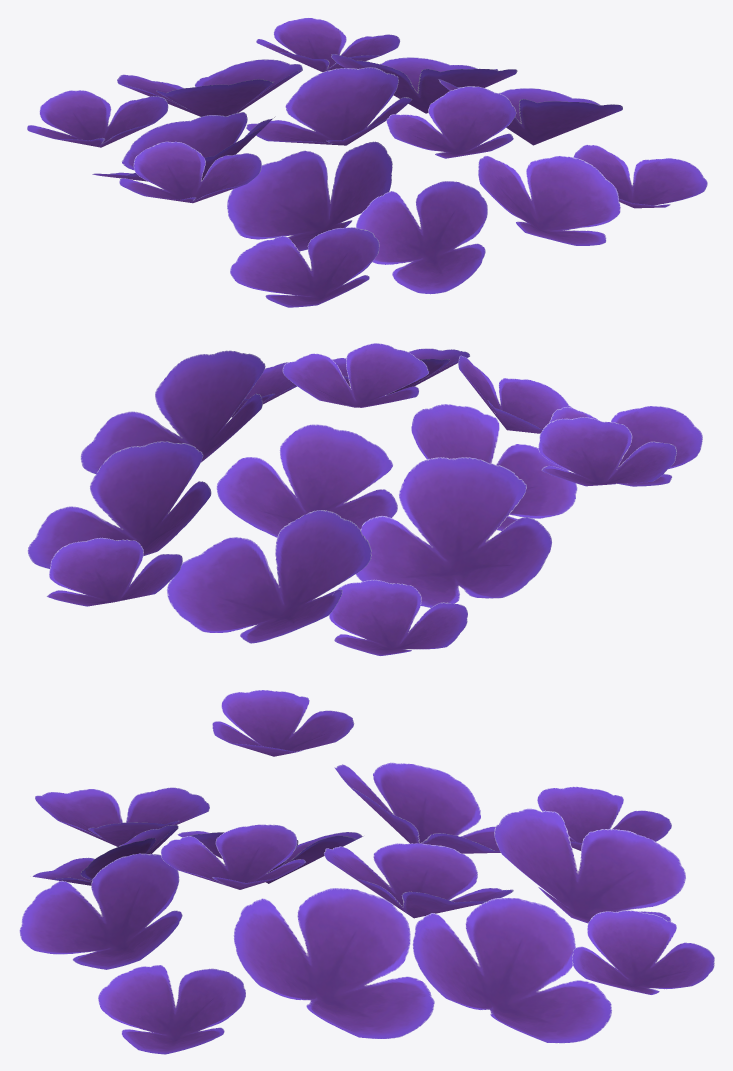
File: Plant_7_Big.glb
The picture shows the model from 3 angles, top to bottom: view 1: azimuth 30°, elevation 25°; view 2: azimuth 150°, elevation 25°; view 3: azimuth 270°, elevation 25°; orthographic projection. The views are drawn at different scales.
Visible parts, largest first — view 1: Plant_7_Big; view 2: Plant_7_Big; view 3: Plant_7_Big.
Part boxes in pixels (x1,y1,x2,y2): Plant_7_Big: (27,18,707,307); Plant_7_Big: (27,343,702,655); Plant_7_Big: (19,690,714,1054).
Bounding box in the file's own units: 1.31 × 0.2534 × 1.36.
Materials: 1 (1 with a texture image).
